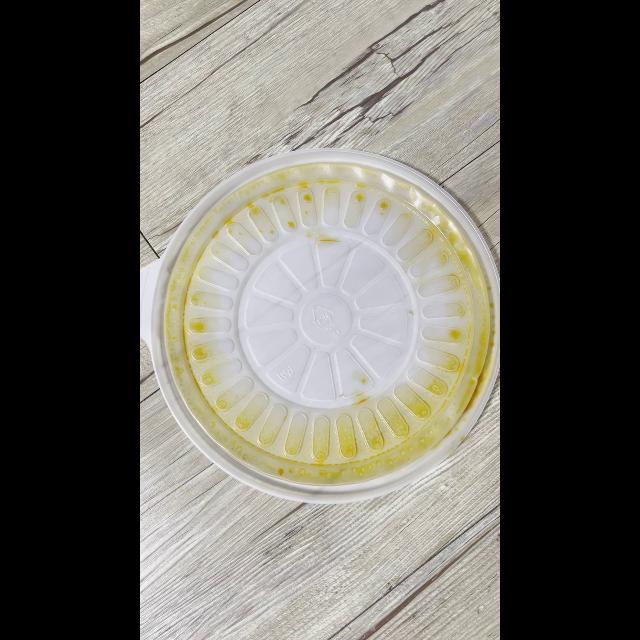dirty: (157, 150, 495, 492)
